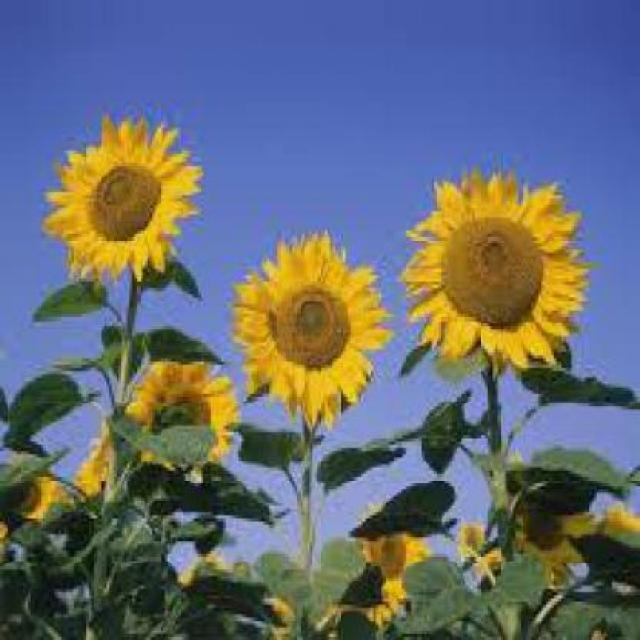flower: (397, 169, 595, 382), (42, 107, 208, 284), (235, 232, 387, 414)
